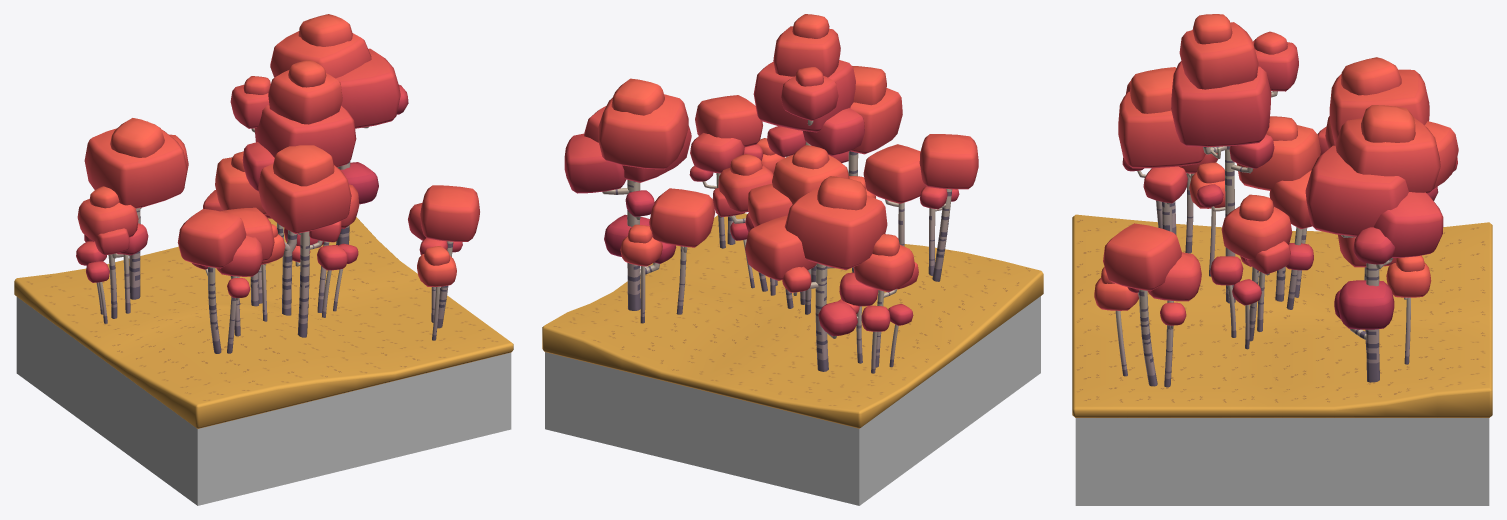
File: island_autumn.fbx
3 views of the same model, side by side, from view 1: azimuth 30°, elevation 25°; view 2: azimuth 150°, elevation 25°; view 3: azimuth 270°, elevation 25° (orthographic). The views are drawn at different scales.
Visible parts, largest first — view 1: birch_tree_autumn, grass_top, ground_block_autumn; view 2: birch_tree_autumn, grass_top, ground_block_autumn; view 3: birch_tree_autumn, grass_top, ground_block_autumn.
Part boxes in pixels (x1=…): birch_tree_autumn: x1=76, y1=14, x2=479, y2=353; grass_top: x1=14, y1=217, x2=513, y2=428; ground_block_autumn: x1=16, y1=297, x2=511, y2=505; birch_tree_autumn: x1=564, y1=14, x2=978, y2=373; grass_top: x1=542, y1=213, x2=1043, y2=428; ground_block_autumn: x1=545, y1=296, x2=1040, y2=505; birch_tree_autumn: x1=1094, y1=14, x2=1458, y2=387; grass_top: x1=1072, y1=214, x2=1492, y2=417; ground_block_autumn: x1=1075, y1=418, x2=1489, y2=505.
Size of the model in its own units: 1747 by 1740 by 1625.
